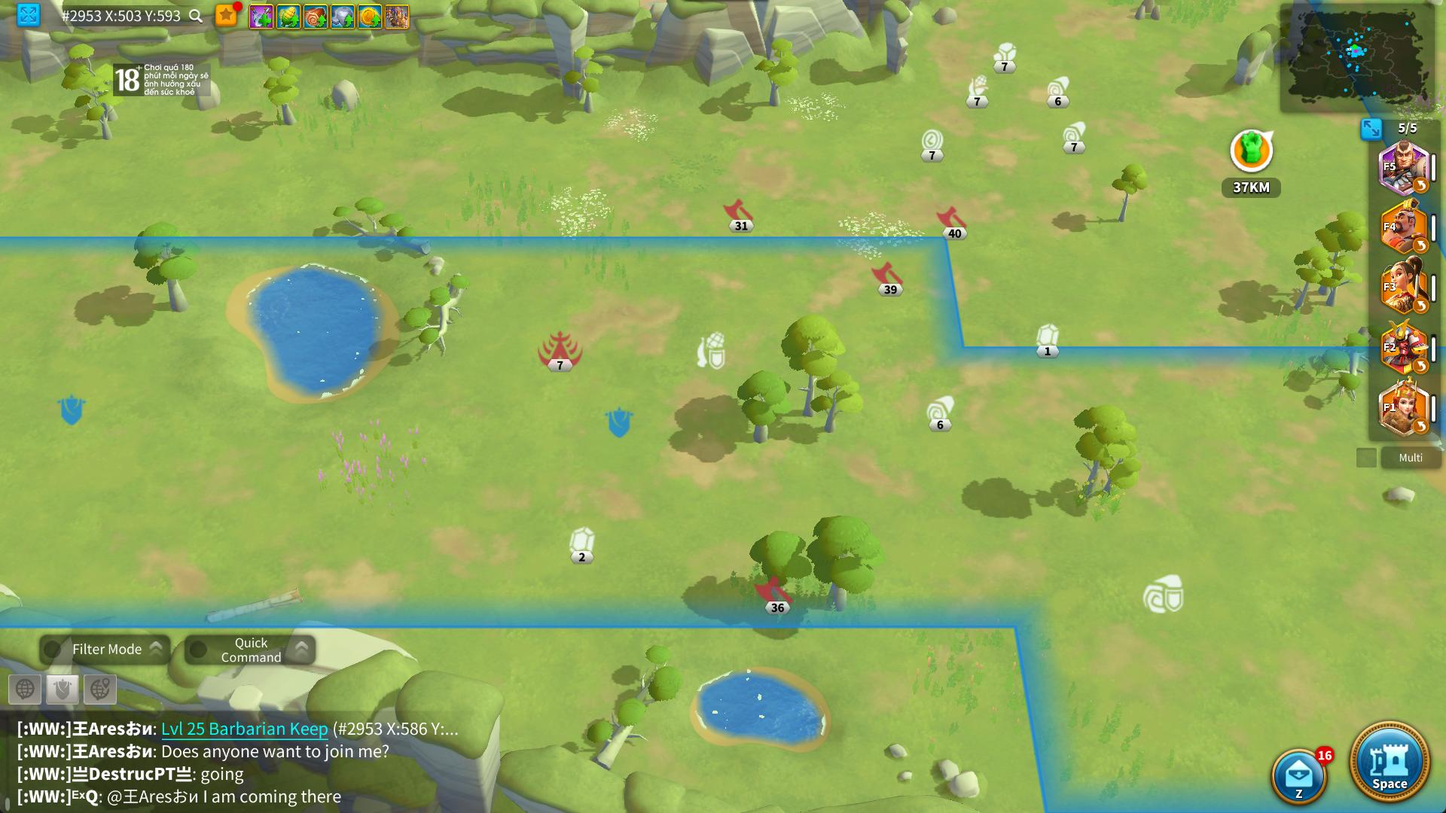gem-z-out: (570, 525, 597, 565), (1035, 322, 1061, 360)
